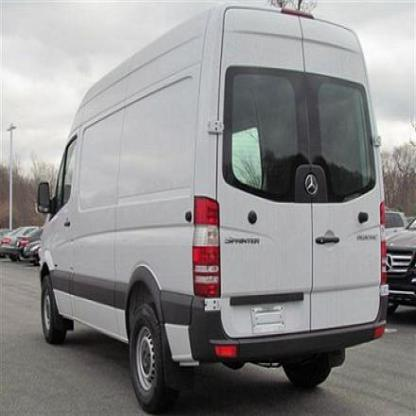Vehicle: (36, 4, 395, 413)
